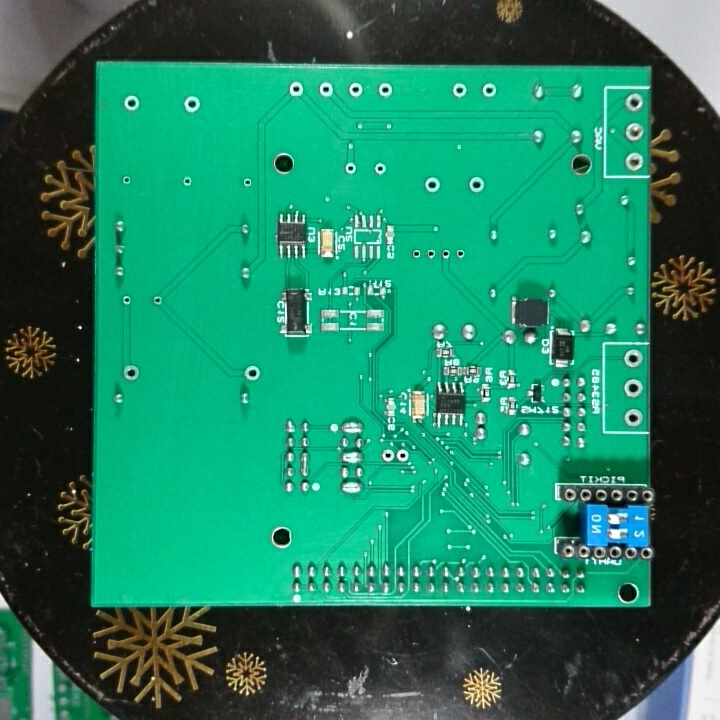F: (622, 406, 645, 430), (622, 150, 646, 173), (179, 92, 202, 116), (622, 347, 645, 370), (121, 92, 144, 115), (622, 120, 646, 142), (622, 92, 645, 114), (286, 78, 308, 100), (465, 174, 488, 195), (242, 363, 263, 385), (121, 362, 143, 383), (314, 79, 337, 99), (622, 378, 643, 399), (375, 81, 396, 101), (449, 80, 469, 100), (345, 80, 365, 100), (422, 175, 442, 195), (480, 81, 499, 100), (394, 446, 412, 466), (342, 159, 359, 178), (453, 244, 468, 265), (371, 160, 388, 178), (150, 292, 166, 311), (179, 172, 195, 190), (379, 447, 395, 465), (437, 244, 452, 263), (119, 172, 136, 188), (119, 292, 135, 308), (408, 244, 423, 261), (423, 244, 437, 262), (239, 175, 254, 191)
P: (338, 418, 366, 435), (338, 480, 365, 497), (339, 449, 365, 466), (297, 449, 311, 477)
